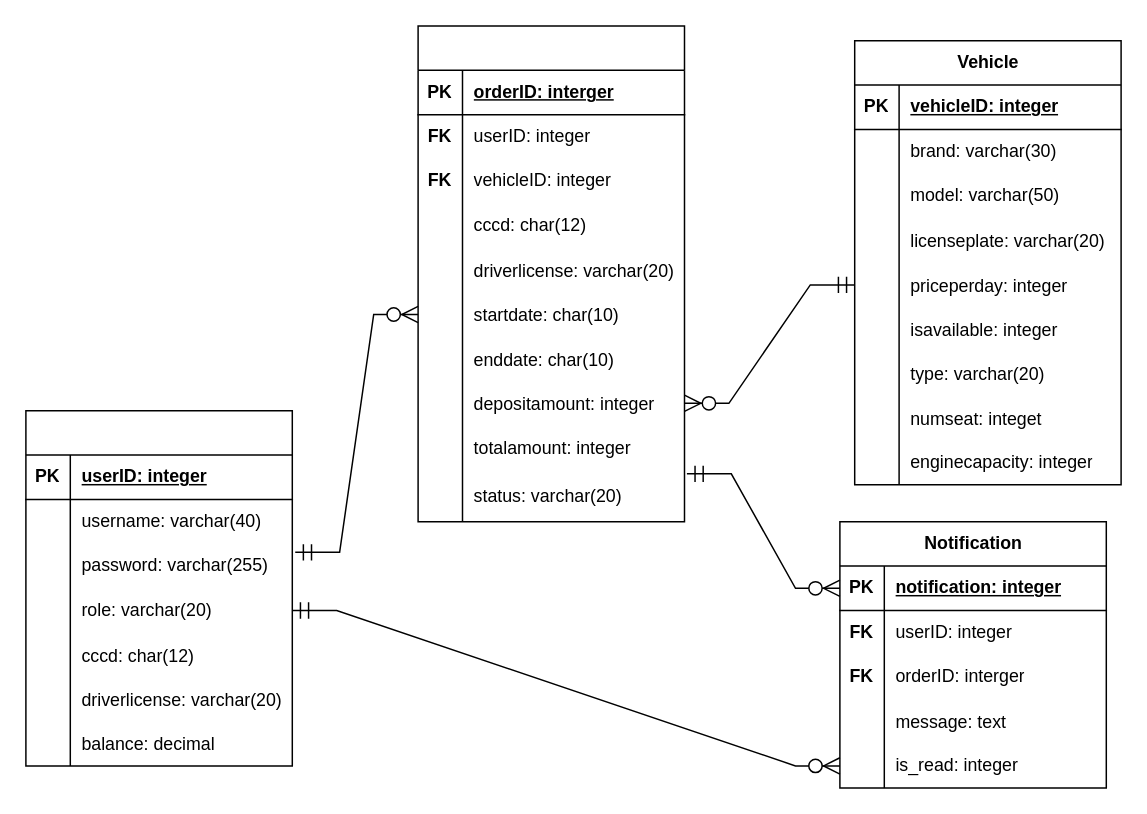
This 1147x814 diagram has some shape labels left out. The box of each missing label's shape, as (x1, y1, x2, y2) in pixels:
RentalOrders: (417, 24, 684, 522)
Users: (24, 409, 292, 766)
